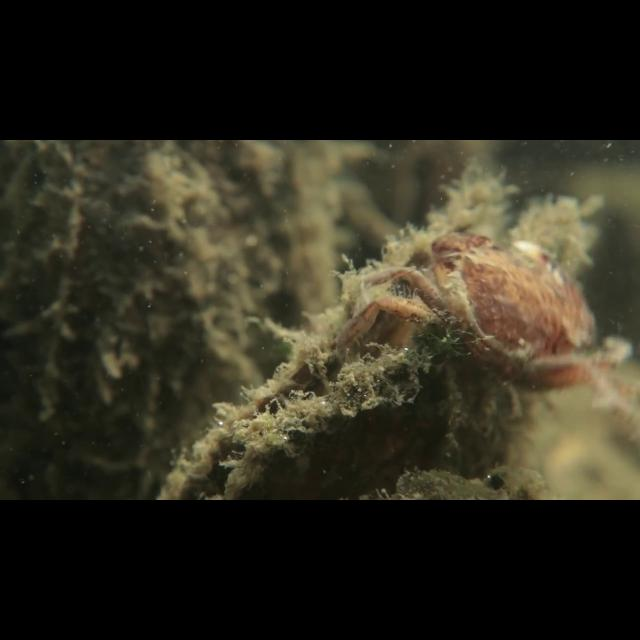Oyster-Open: (168, 197, 591, 491)
